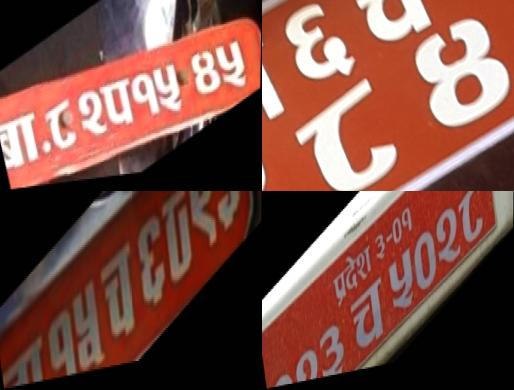0: (410, 226, 440, 311), (268, 359, 301, 389), (389, 214, 403, 256)
1: (42, 291, 84, 383), (127, 62, 163, 135), (398, 204, 415, 250)
2: (431, 201, 464, 290), (74, 79, 112, 154), (290, 335, 324, 385)
3: (207, 191, 249, 258), (315, 310, 348, 381), (373, 231, 387, 271)
4: (399, 7, 514, 147), (189, 41, 226, 114)
5: (68, 262, 113, 378), (211, 30, 252, 112), (149, 50, 191, 130), (385, 242, 418, 331)
6: (272, 0, 368, 103), (129, 196, 173, 340)
8: (282, 73, 413, 191), (157, 191, 199, 313), (39, 81, 83, 165), (454, 191, 488, 267)
9: (183, 191, 222, 283)
ba: (262, 27, 298, 162), (0, 91, 47, 189), (1, 320, 56, 390)
cha: (336, 0, 443, 66), (96, 226, 144, 371), (346, 269, 390, 374)
pa: (98, 68, 139, 150)
